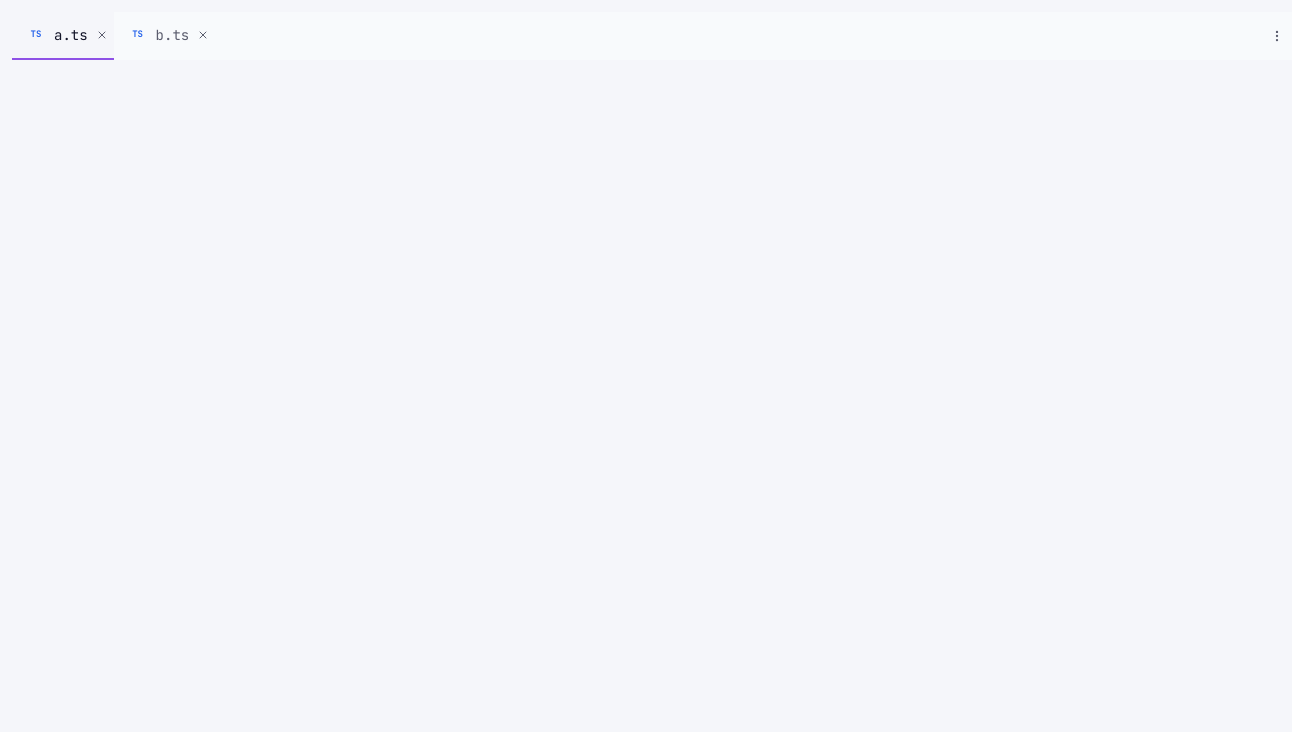
EditorTabs › closes the menu on an outside click
What coordinates should you click on to do the following:
click the button named "Tab options"
I would click on:
 (1277, 36)
Its box is [1270,29,1284,43].
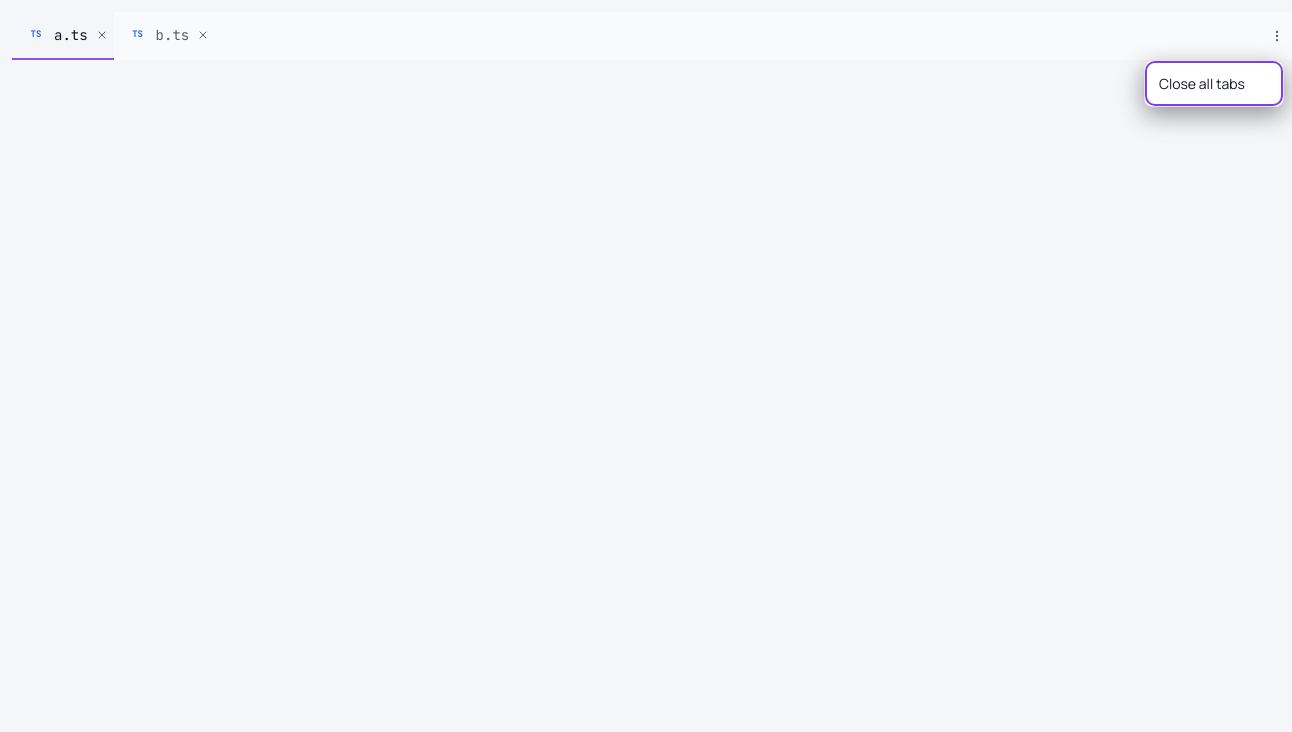
Now the menu is shown, box [1144,60,1284,107]
What coordinates should you click on to do the following:
click the element showing "TS a.ts TS b.ts Close all tabs"
I would click on:
 (652, 372)
Its box is [12,12,1291,731].
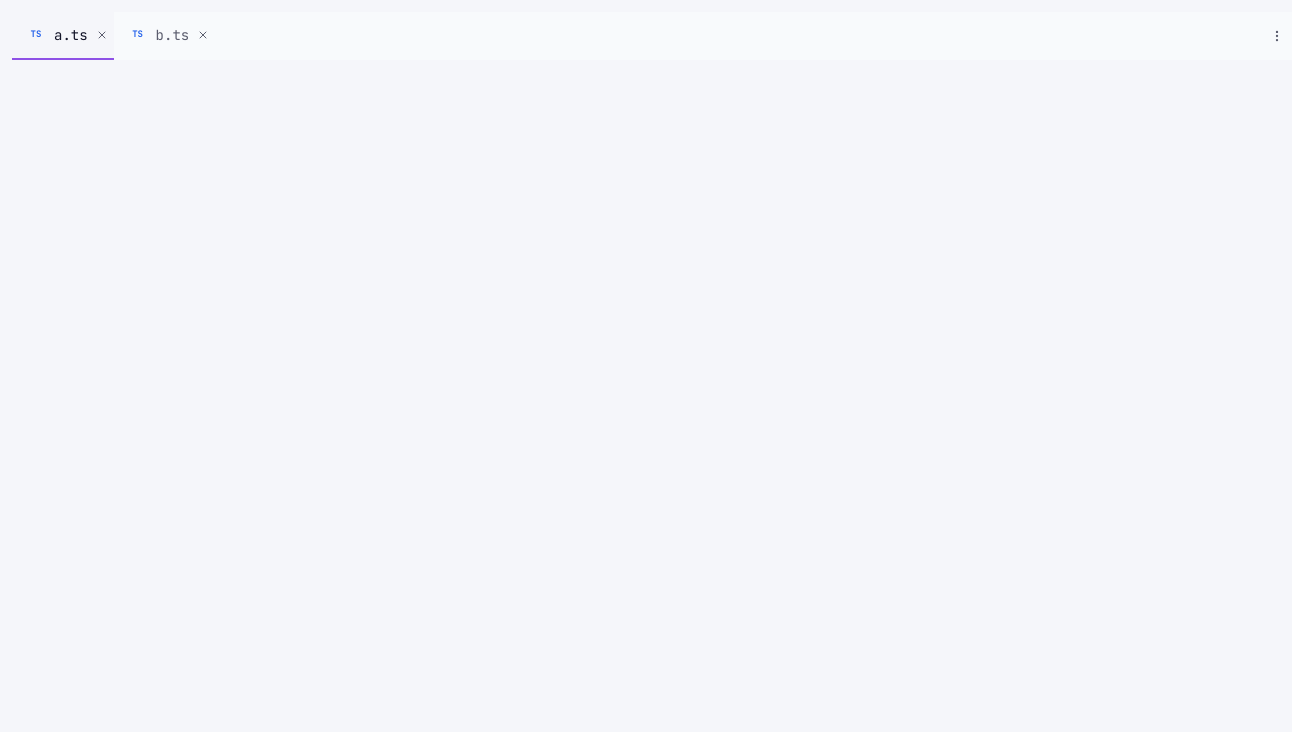
Now the menu is gone
